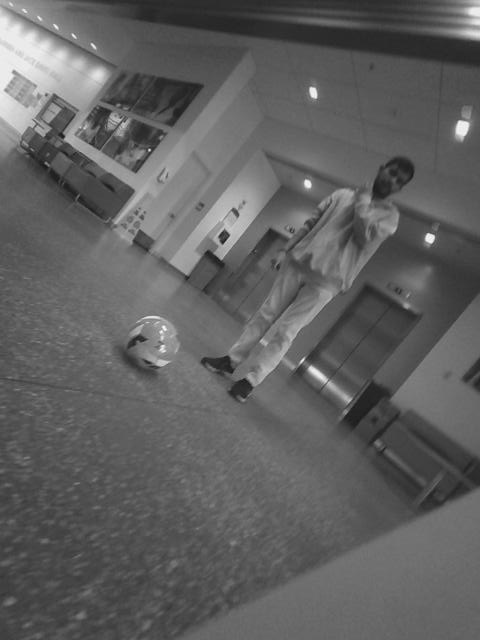ball: (51, 254, 140, 338)
